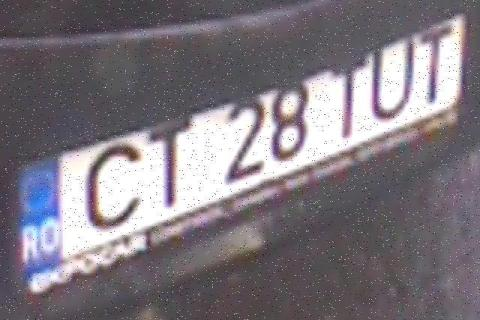LicensePlate: (5, 4, 471, 288)
